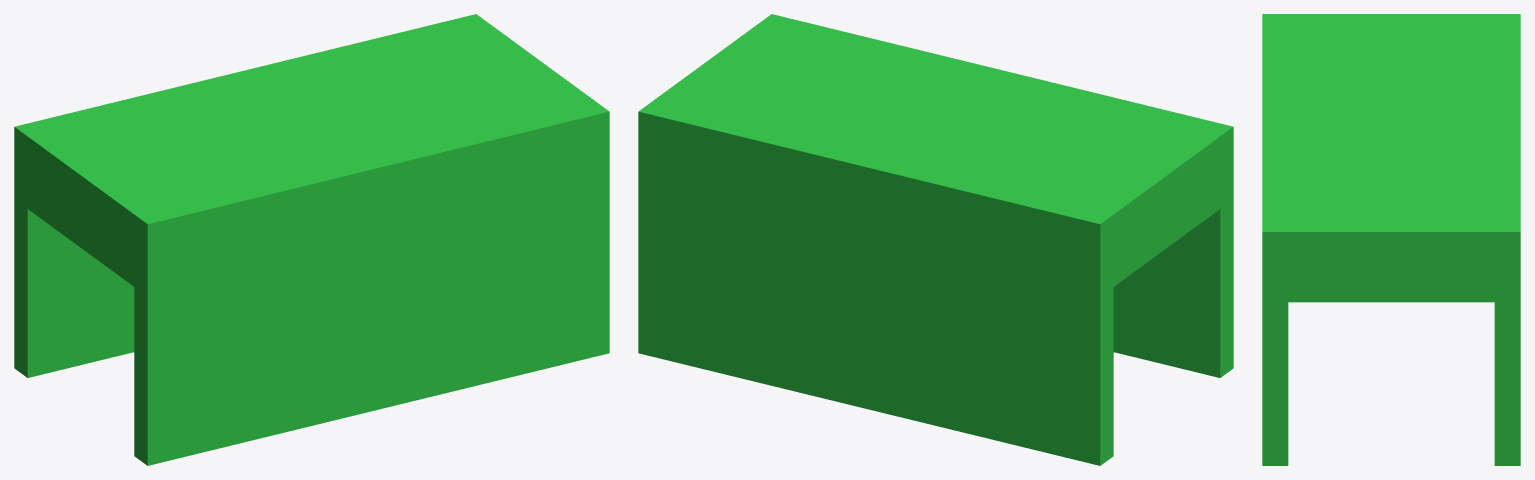
The model's file is tunnel_x_70cm_hole_400cm_len.dae.
3 renders of one model, left to right at view 1: azimuth 30°, elevation 25°; view 2: azimuth 150°, elevation 25°; view 3: azimuth 270°, elevation 25°, orthographic. The views are drawn at different scales.
Parts seen in each view (by area): view 1: Cube; view 2: Cube; view 3: Cube.
Part boxes in pixels (x1,y1,x2,y2): Cube: (14, 14, 609, 465); Cube: (638, 14, 1233, 465); Cube: (1262, 14, 1520, 465).
Bounding box in the file's own units: 4 × 2 × 2.
